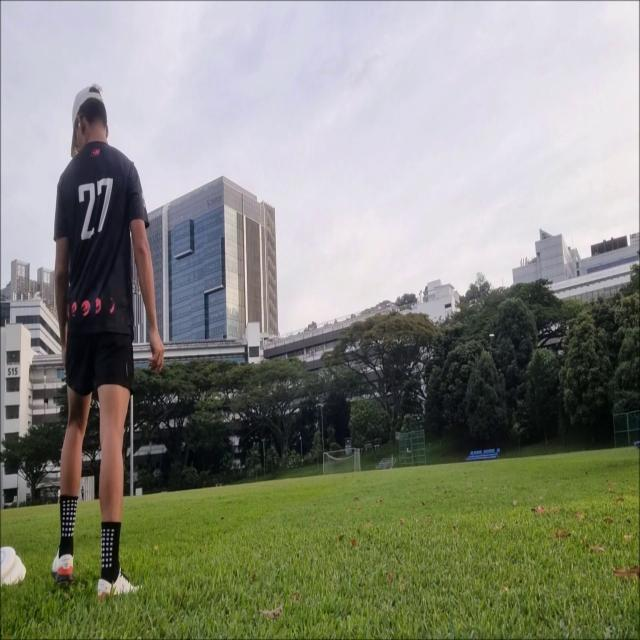disc: (488, 333, 494, 337)
